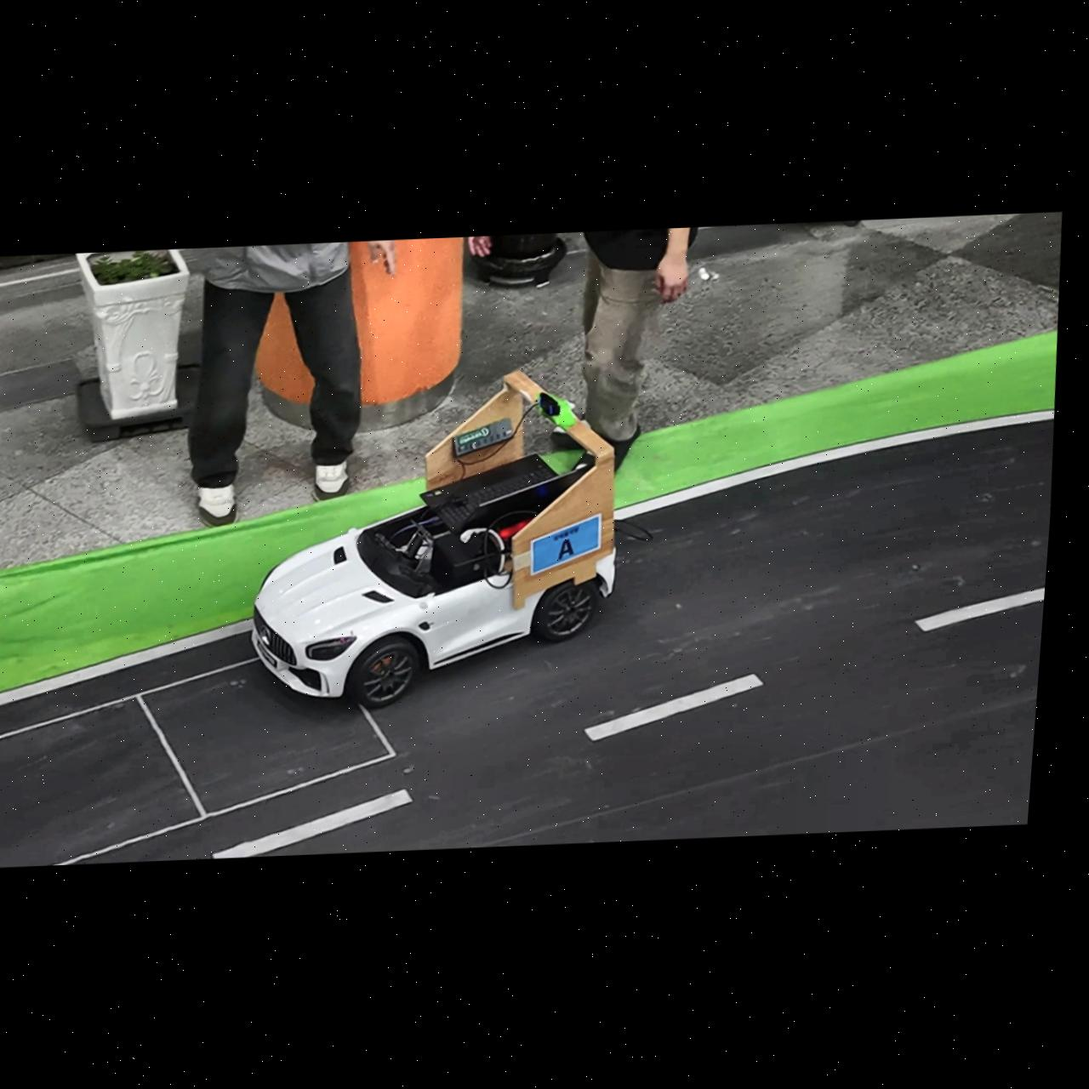broken_line: (212, 790, 411, 858), (584, 673, 762, 741), (915, 587, 1045, 631)
